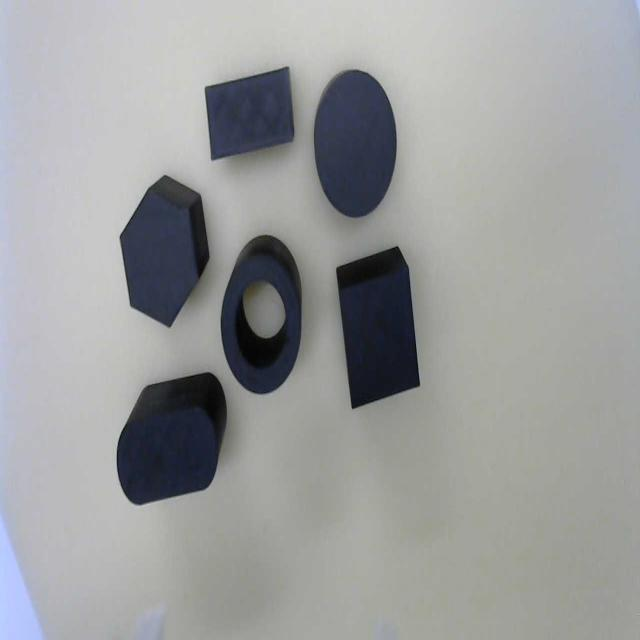circle: (314, 70, 397, 220)
hexagon: (114, 176, 207, 341)
oval: (114, 401, 220, 509)
rectangle: (206, 68, 292, 158)
ring: (216, 251, 305, 401)
square: (341, 267, 420, 411)
